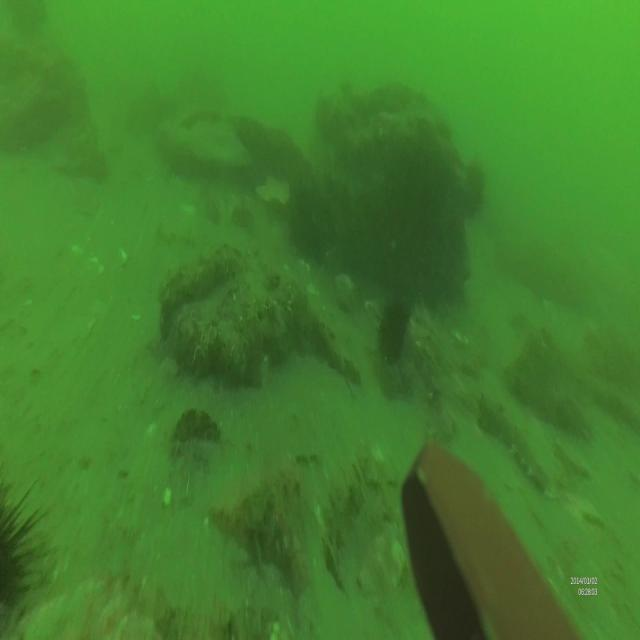echinus: (1, 473, 55, 635), (379, 291, 412, 364)
holothurian: (480, 391, 554, 503)
